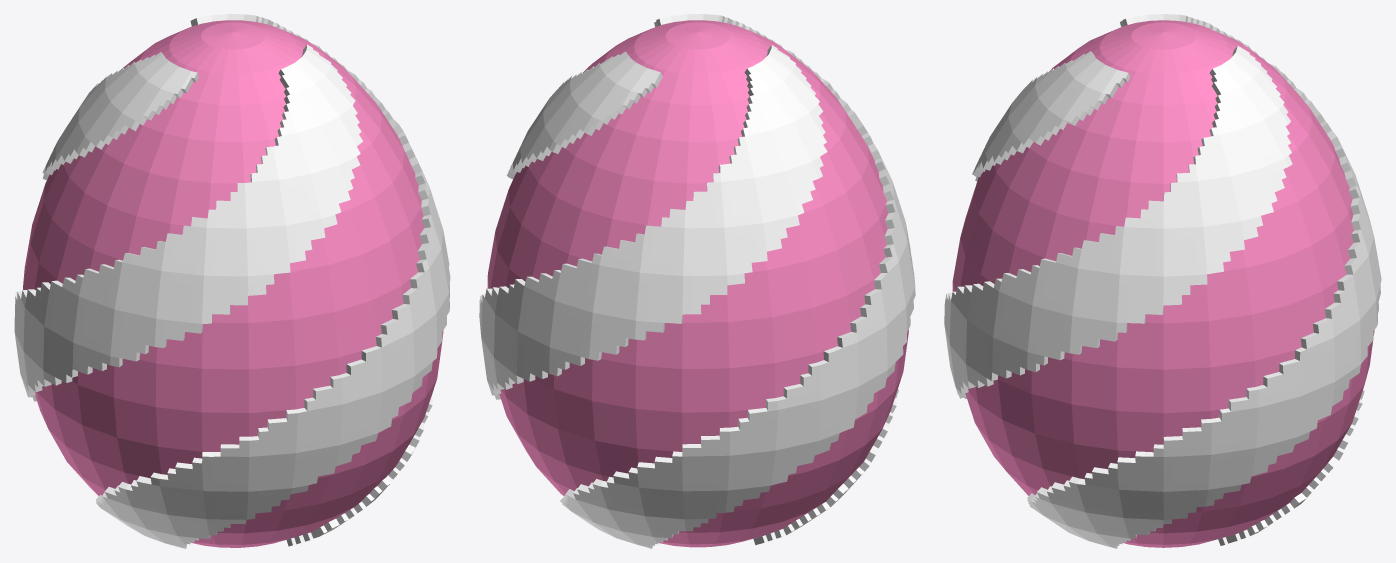
Rendered from CandyEgg.fbx.
The picture shows the model from 3 angles, left to right: view 1: azimuth 30°, elevation 25°; view 2: azimuth 150°, elevation 25°; view 3: azimuth 270°, elevation 25°; orthographic projection.
Visible parts, largest first — view 1: Egg_FF8CC6, Egg_FFFFFF; view 2: Egg_FF8CC6, Egg_FFFFFF; view 3: Egg_FF8CC6, Egg_FFFFFF.
Part boxes in pixels (x1,y1,x2,y2): Egg_FF8CC6: (23,20,443,547); Egg_FFFFFF: (14,14,450,548); Egg_FF8CC6: (487,20,908,547); Egg_FFFFFF: (479,14,915,548); Egg_FF8CC6: (952,20,1374,547); Egg_FFFFFF: (944,14,1381,548).
Size of the model in its own units: 2.06 by 2.6 by 2.07.
